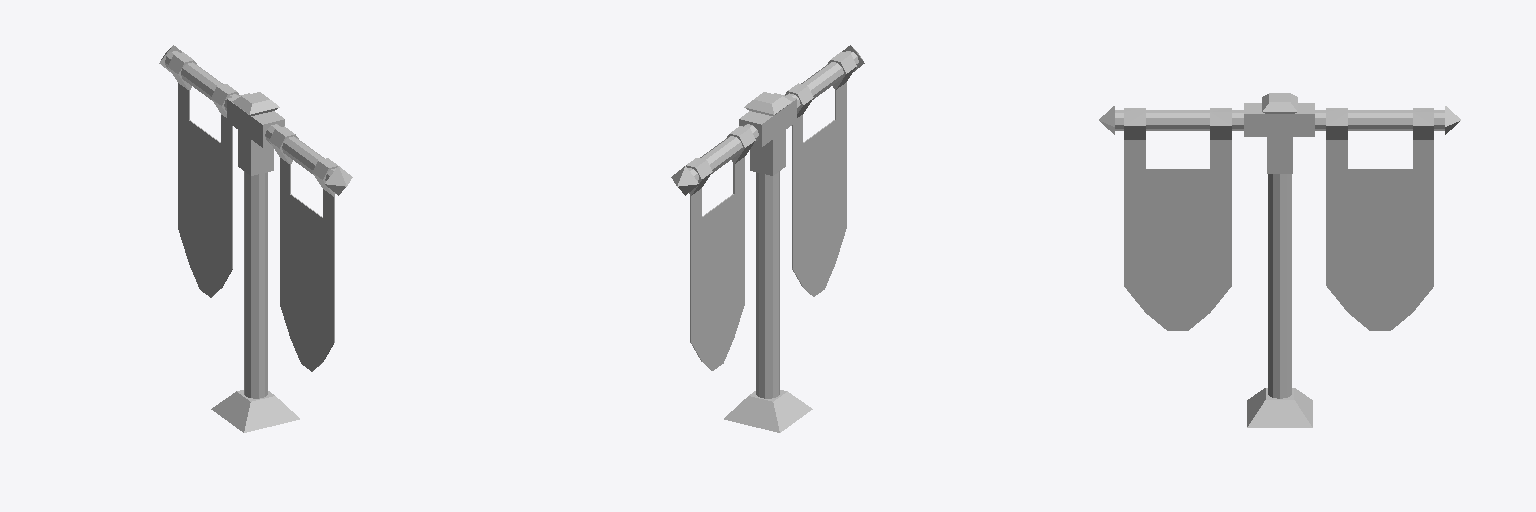
File: FlagBlue1.obj
The picture shows the model from 3 angles: view 1: azimuth 30°, elevation 25°; view 2: azimuth 150°, elevation 25°; view 3: azimuth 270°, elevation 25°; orthographic projection.
Visible parts, largest first — view 1: polySurface2; view 2: polySurface2; view 3: polySurface2.
Boxes of the visible parts, x1,y1,x2,y2 form: polySurface2: [159, 45, 352, 432]; polySurface2: [671, 45, 864, 432]; polySurface2: [1099, 93, 1460, 427].
Bounding box in the file's own units: 1 × 5.29 × 5.51.